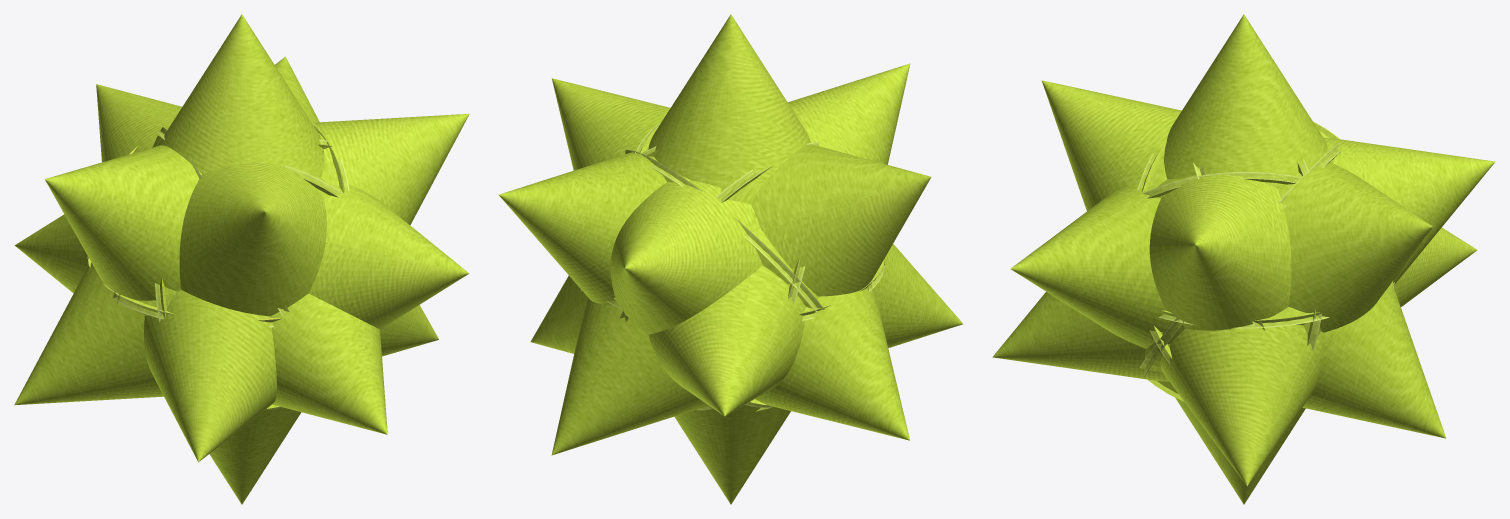
The model's file is Player_11.fbx.
The picture shows the model from 3 angles, left to right: view 1: azimuth 30°, elevation 25°; view 2: azimuth 150°, elevation 25°; view 3: azimuth 270°, elevation 25°; orthographic projection.
Parts seen in each view (by area): view 1: Cylinder; view 2: Cylinder; view 3: Cylinder.
Part boxes in pixels (bbox=[...]): Cylinder: bbox=[14, 14, 469, 504]; Cylinder: bbox=[498, 14, 963, 504]; Cylinder: bbox=[992, 14, 1495, 504].
Size of the model in its own units: 304 by 351 by 326.
